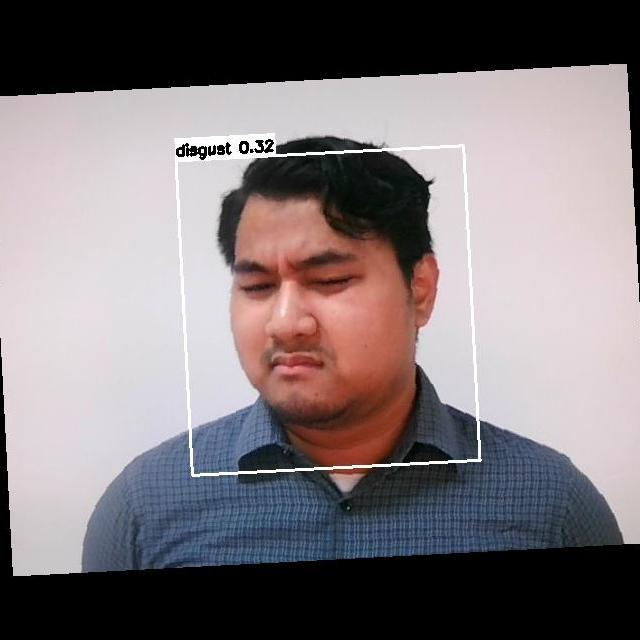Disgust: (209, 228, 406, 411)
